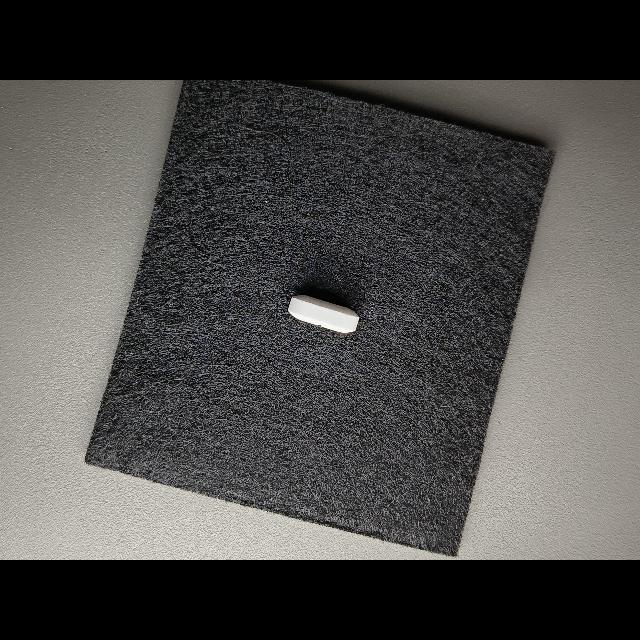Intact Pill: (288, 295, 359, 333)
